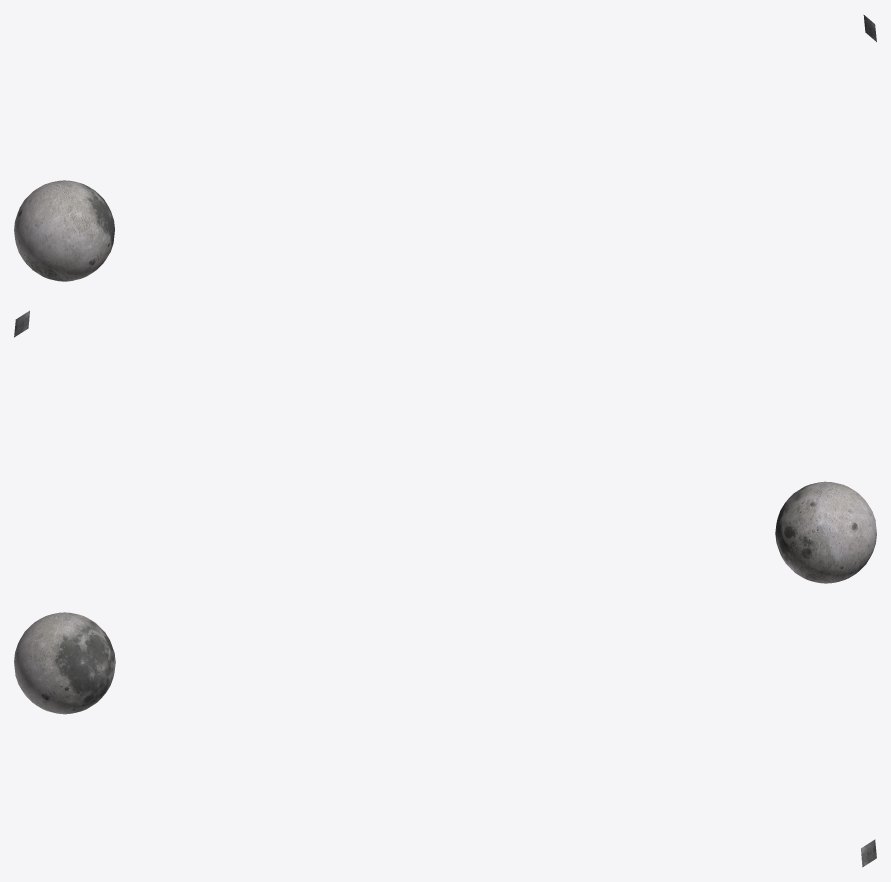
Rendered from moon.glb.
The picture shows the model from 3 angles, top to bottom: view 1: azimuth 30°, elevation 25°; view 2: azimuth 150°, elevation 25°; view 3: azimuth 330°, elevation 25°; orthographic projection.
Parts seen in each view (by area): view 1: Sphere; view 2: Sphere; view 3: Sphere.
Boxes of the visible parts, x1,y1,x2,y2 form: Sphere: (14, 180, 114, 281); Sphere: (775, 481, 876, 583); Sphere: (14, 612, 115, 714).
Bounding box in the file's own units: 9.37 × 0.9694 × 0.9656.
1 material, 1 textured.
